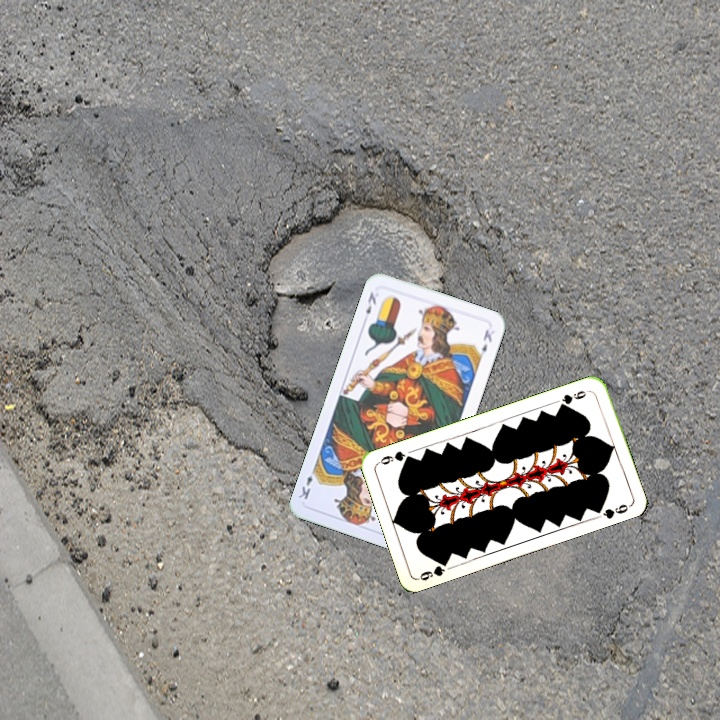EK: (362, 288, 379, 317)
G9: (414, 556, 451, 583), (555, 386, 589, 410)
